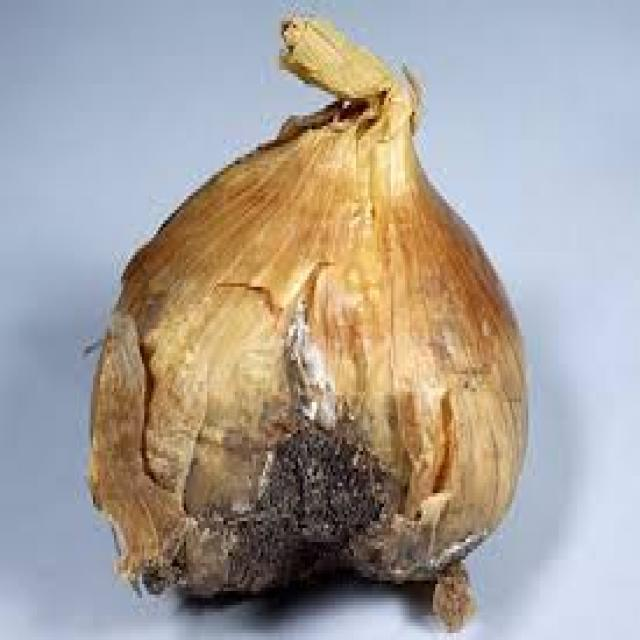Onion: (83, 9, 533, 634)
